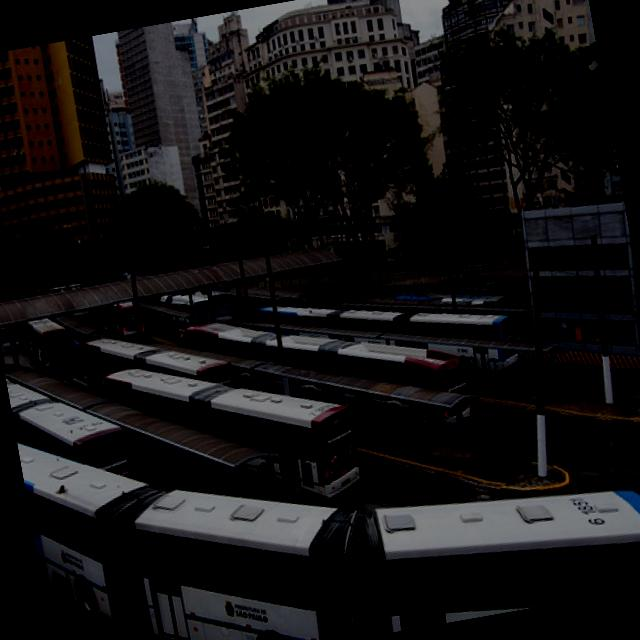Vehicle: (13, 313, 640, 640), (86, 329, 366, 535), (0, 330, 135, 493), (332, 320, 476, 447), (406, 292, 524, 388), (143, 340, 236, 400), (18, 312, 74, 374), (88, 297, 146, 343), (0, 324, 24, 349)
